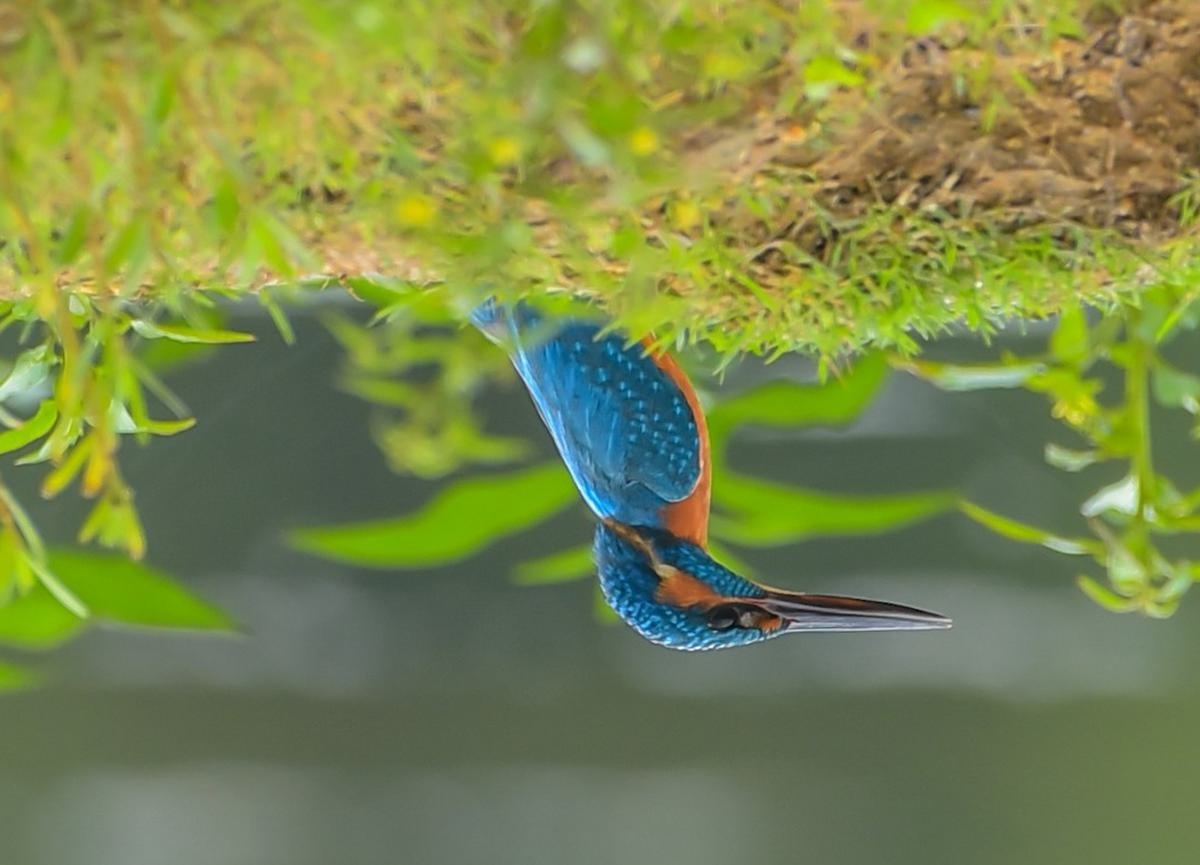kingfisher: (435, 291, 972, 677)
